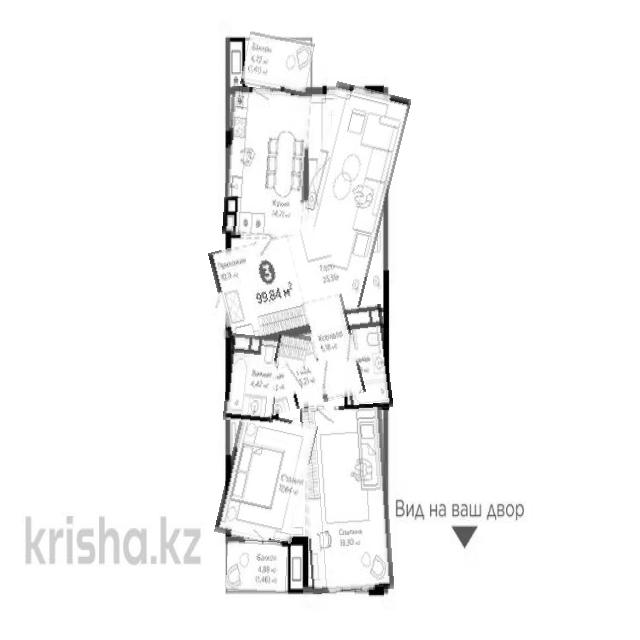balcony: (243, 34, 313, 94), (227, 540, 288, 592)
bathroom: (341, 305, 390, 411), (225, 334, 279, 423)
hallway: (208, 235, 366, 408)
kitchen: (225, 88, 309, 238)
living_room: (296, 85, 399, 312), (303, 405, 391, 593), (221, 412, 311, 546)
other: (275, 333, 309, 371)
